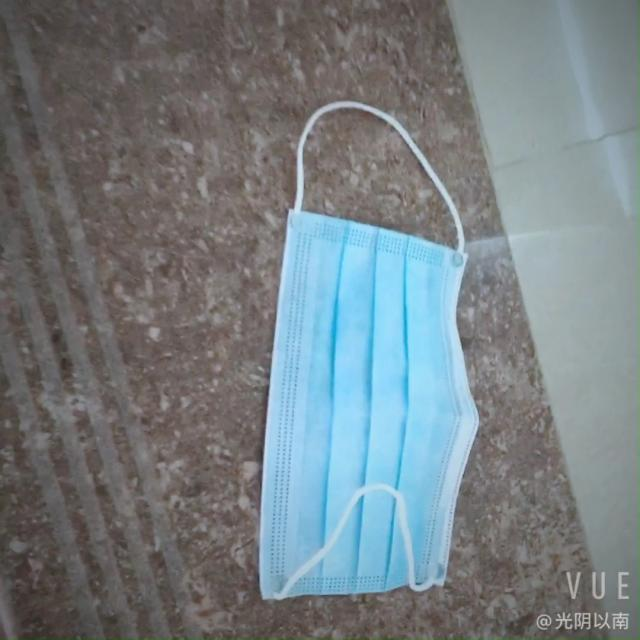face mask: (249, 212, 466, 600)
